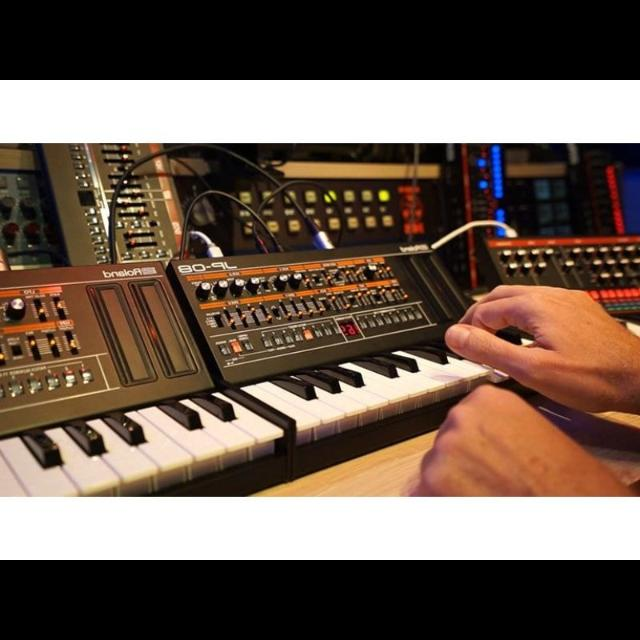Electronic-Keyboard: (196, 257, 474, 418), (9, 263, 172, 487)
